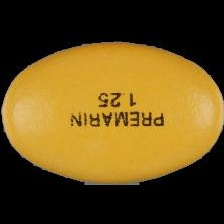0046-1104: (0, 0, 224, 224)
